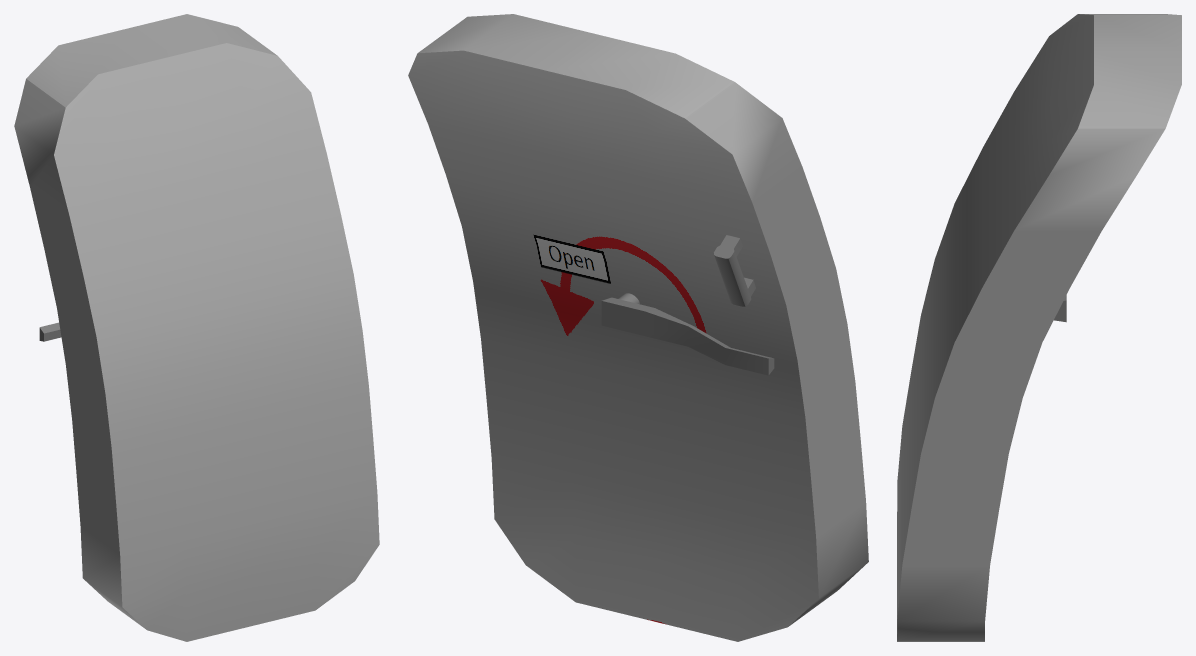
File: vliegtuigdeur.fbx
3 views of the same model, side by side, from view 1: azimuth 30°, elevation 25°; view 2: azimuth 150°, elevation 25°; view 3: azimuth 270°, elevation 25° (orthographic). The views are drawn at different scales.
Parts seen in each view (by area): view 1: pCube1; view 2: pCube1, pCube2, pCube3; view 3: pCube1.
Part boxes in pixels (<box>): pCube1: <box>14,14,379,641</box>; pCube1: <box>408,14,868,641</box>; pCube2: <box>601,297,774,375</box>; pCube3: <box>714,235,755,306</box>; pCube1: <box>897,14,1181,641</box>.
Bounding box in the file's own units: 3.77 × 7 × 3.24.
3 materials, 1 textured.
